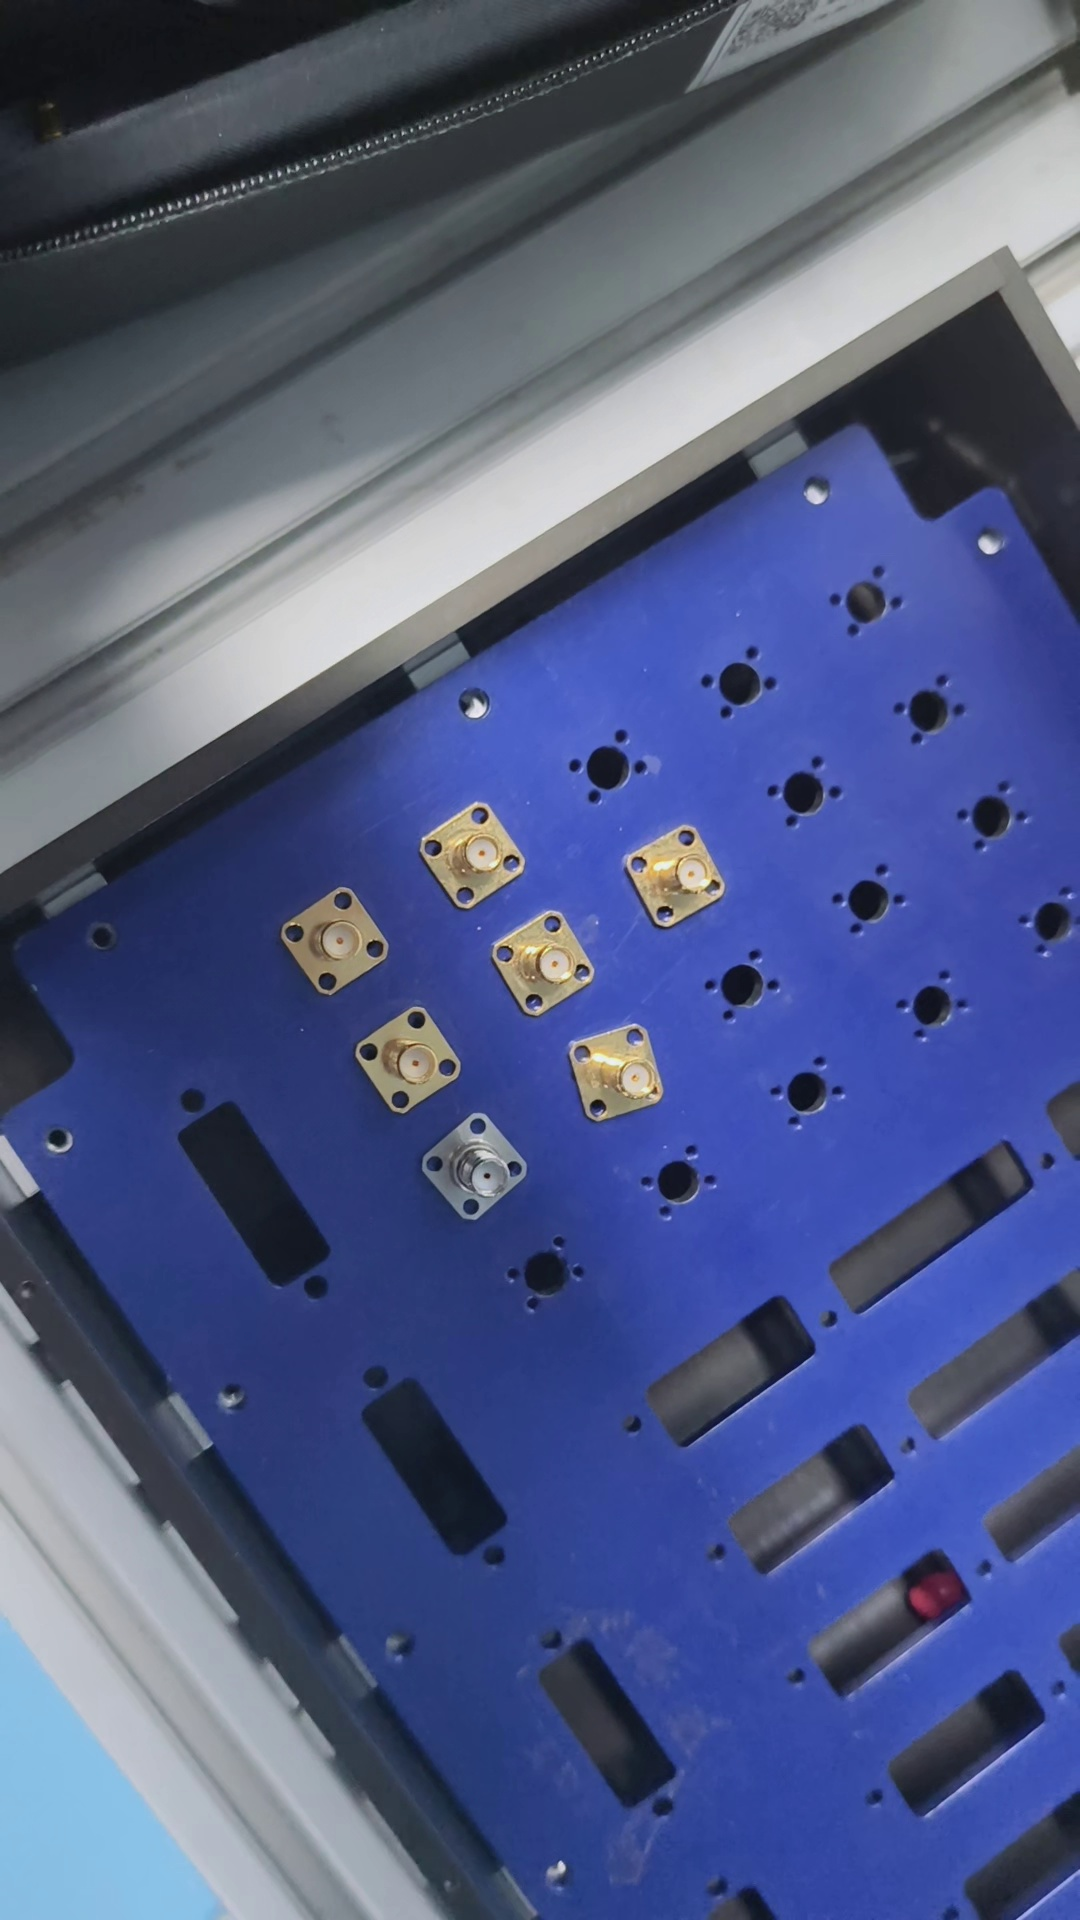SMA: (421, 1104, 533, 1226), (353, 1000, 469, 1112), (423, 793, 529, 909), (281, 886, 389, 992), (567, 1029, 683, 1124), (493, 910, 597, 1015), (629, 818, 727, 922)
